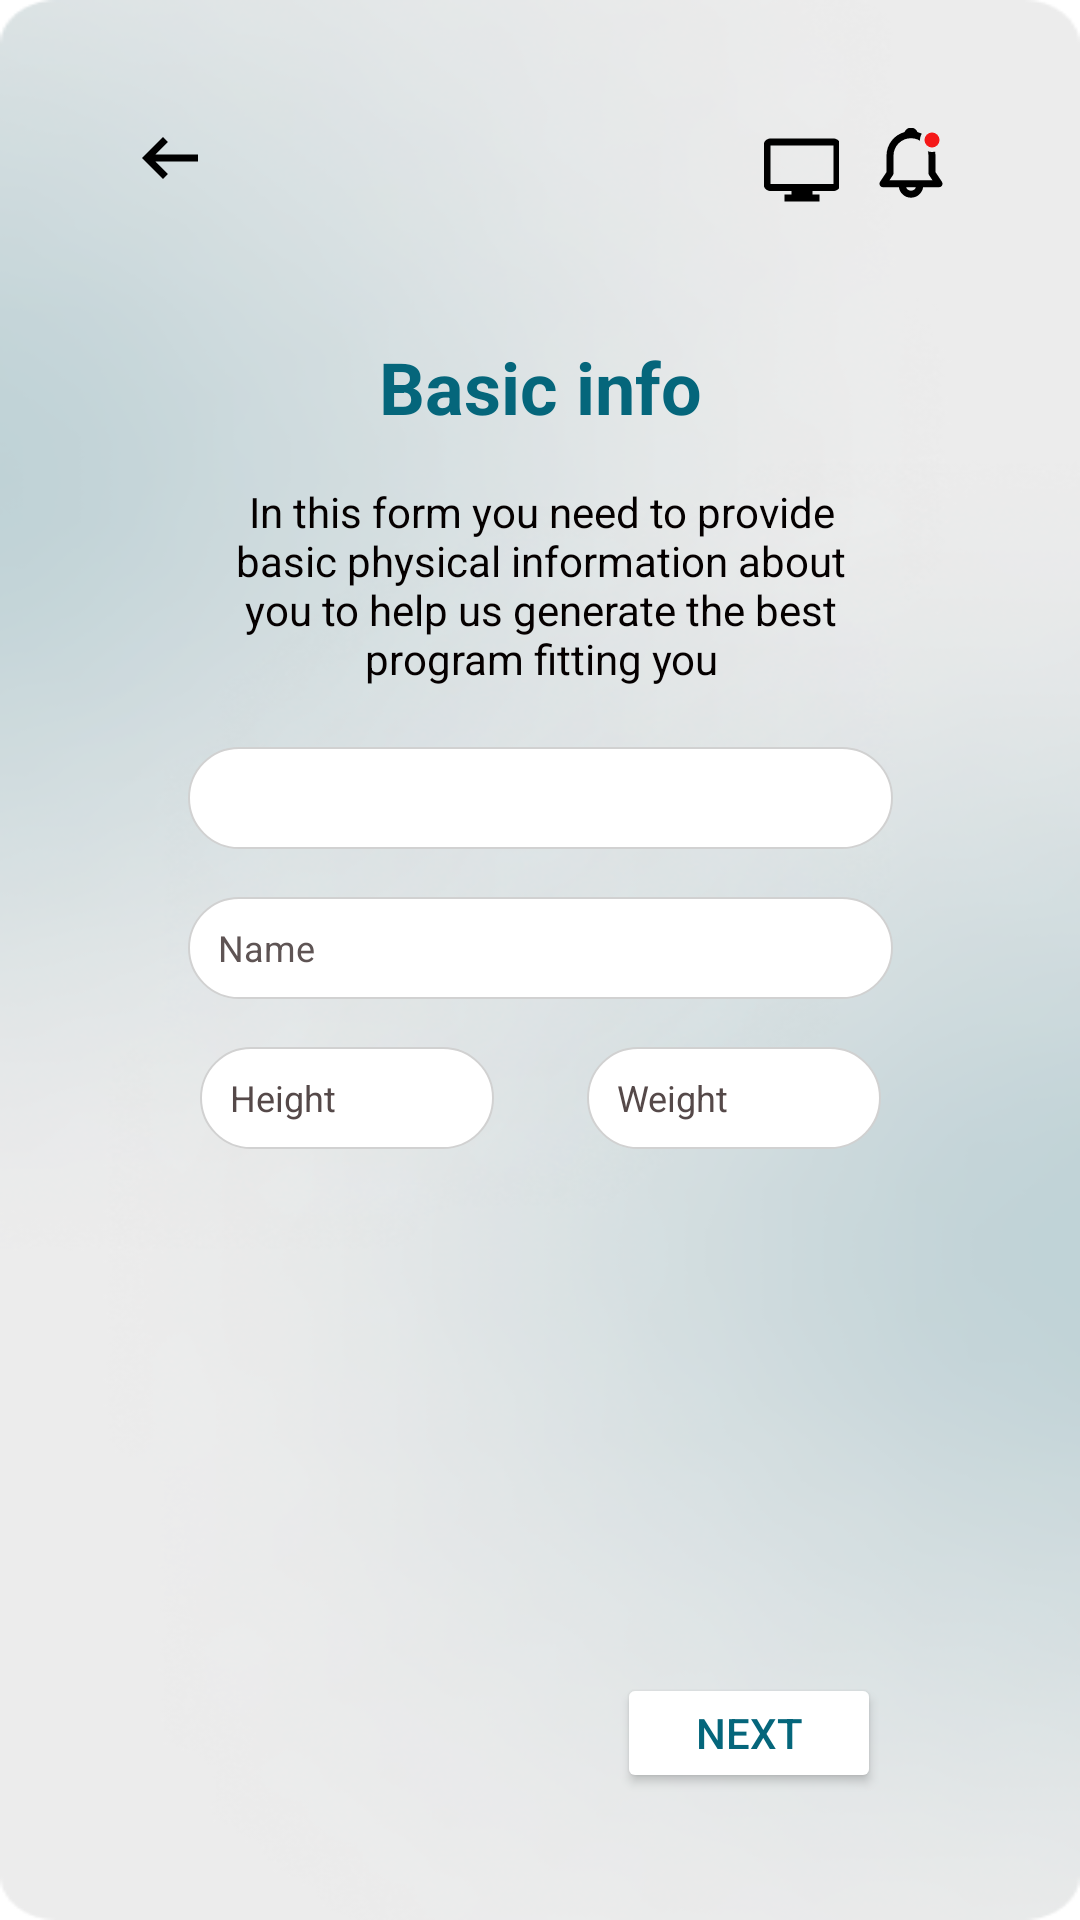

Where icons sit on this 1080*1920 app screen, as (x1, y1, x2, y2):
mi notification: (879, 128, 943, 198)
monitor: (764, 138, 839, 202)
short left: (142, 137, 198, 179)
